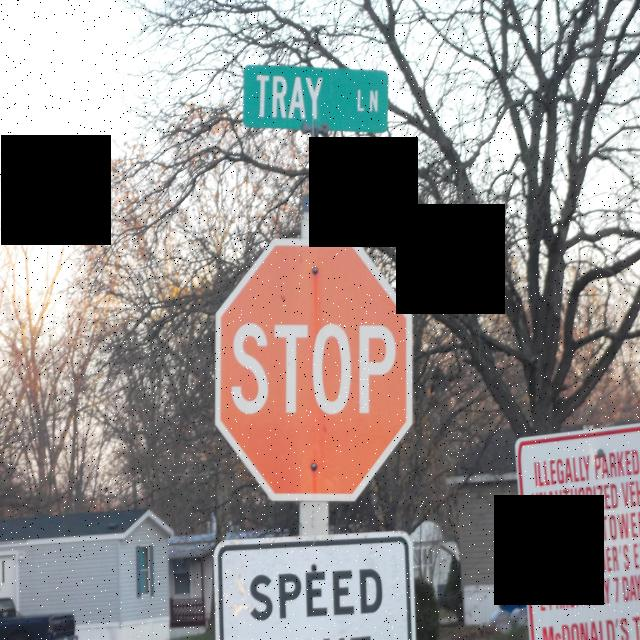regulatory: (513, 427, 640, 640), (212, 532, 419, 640)
stop: (206, 228, 423, 509)
